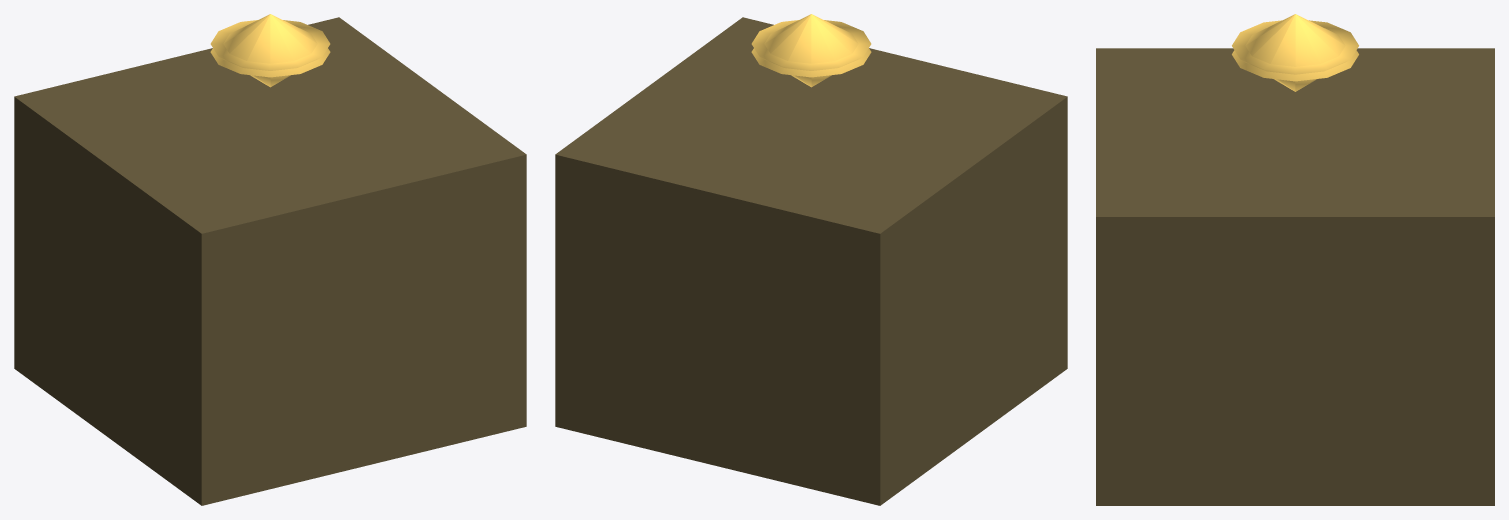
Rendered from root_switch.glb.
3 views of the same model, side by side, from view 1: azimuth 30°, elevation 25°; view 2: azimuth 150°, elevation 25°; view 3: azimuth 270°, elevation 25° (orthographic). The views are drawn at different scales.
Parts seen in each view (by area): view 1: base, crystal_upper, crystal_lower; view 2: base, crystal_upper, crystal_lower; view 3: base, crystal_upper, crystal_lower.
Part boxes in pixels (x1,y1,x2,y2): base: [14, 17, 526, 505]; crystal_upper: [210, 14, 330, 77]; crystal_lower: [210, 20, 330, 87]; base: [555, 17, 1067, 505]; crystal_upper: [751, 14, 871, 77]; crystal_lower: [751, 20, 871, 87]; base: [1096, 48, 1494, 505]; crystal_upper: [1232, 14, 1358, 81]; crystal_lower: [1232, 20, 1358, 91].
Bounding box in the file's own units: 0.5 × 0.564 × 0.5.
